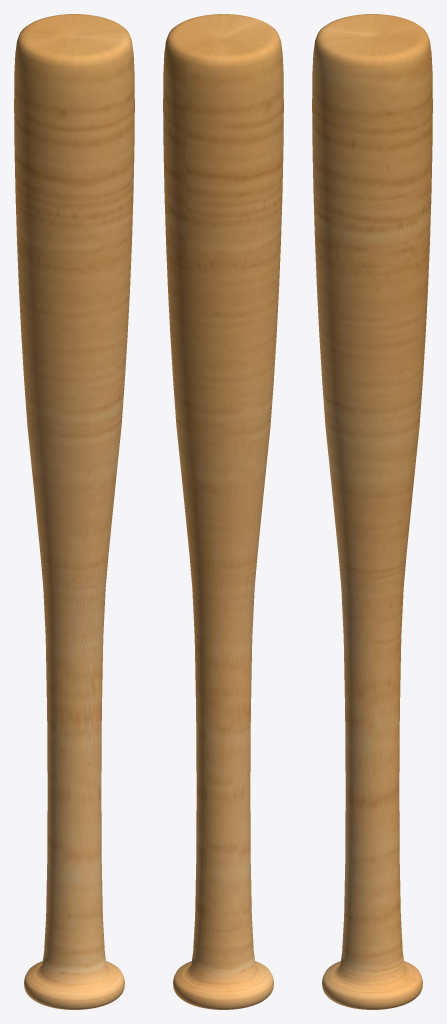
File: bate_jaulabateo.obj
3 views of the same model, side by side, from view 1: azimuth 90°, elevation 25°; view 2: azimuth 150°, elevation 25°; view 3: azimuth 270°, elevation 25° (orthographic).
Parts seen in each view (by area): view 1: Bate; view 2: Bate; view 3: Bate.
Boxes of the visible parts, x1=… form: Bate: x1=14, y1=14, x2=134, y2=1009; Bate: x1=163, y1=14, x2=283, y2=1009; Bate: x1=312, y1=14, x2=432, y2=1009.
Size of the model in its own units: 1.28 by 11.18 by 1.28.
